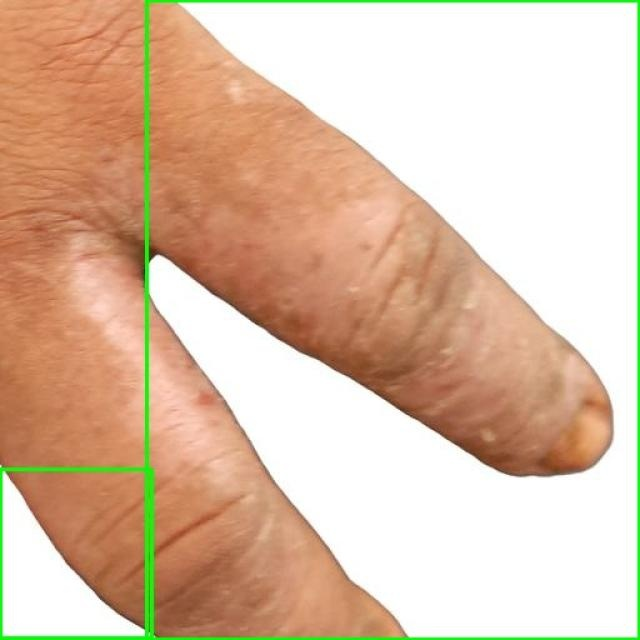Contact Dermatitis: (146, 0, 639, 639), (0, 470, 152, 639)
